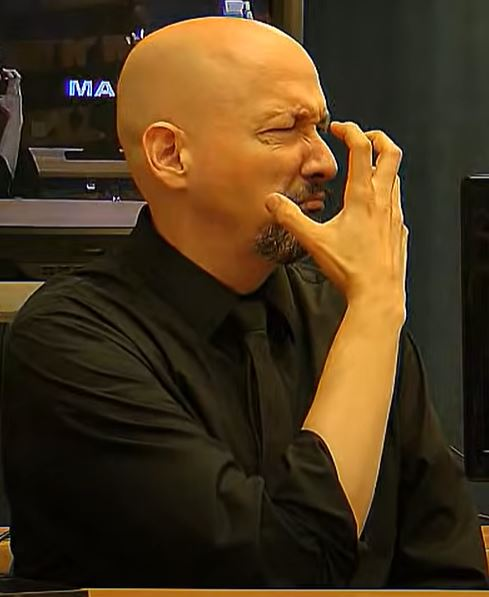Mad: (258, 104, 442, 331)
